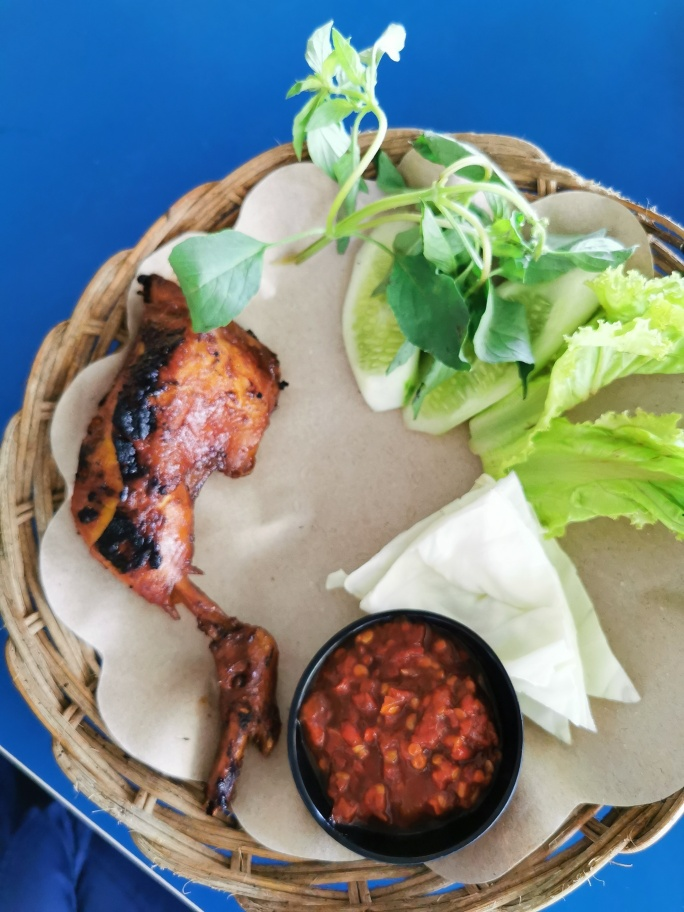ayam bakar: (80, 265, 322, 815)
